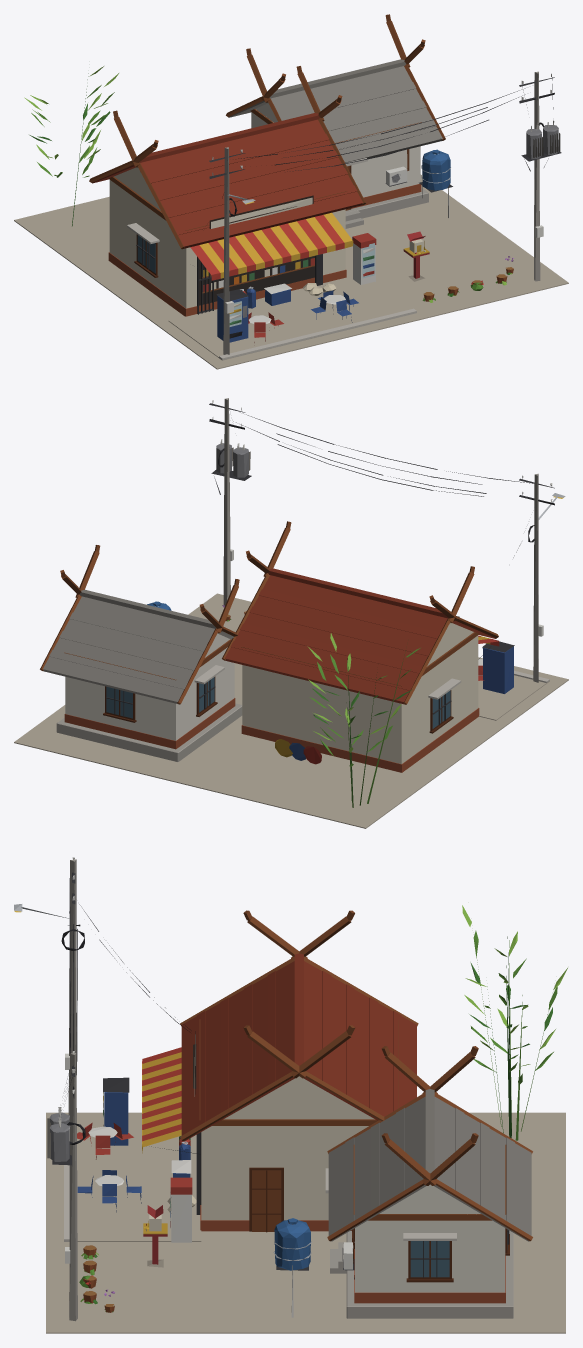
The model's file is shop_1.glb.
3 views of the same model, one above another, from view 1: azimuth 30°, elevation 25°; view 2: azimuth 150°, elevation 25°; view 3: azimuth 270°, elevation 25° (orthographic). The views are drawn at different scales.
Parts seen in each view (by area): view 1: body, windows; view 2: body, windows; view 3: body, windows.
Boxes of the visible parts, x1=… form: body: x1=14, y1=14, x2=568, y2=369; windows: x1=137, y1=201, x2=314, y2=305; body: x1=14, y1=398, x2=568, y2=828; windows: x1=106, y1=496, x2=563, y2=728; body: x1=14, y1=857, x2=567, y2=1333; windows: x1=14, y1=911, x2=507, y2=1277.
Size of the model in its own units: 16.61 by 9.31 by 16.97.
